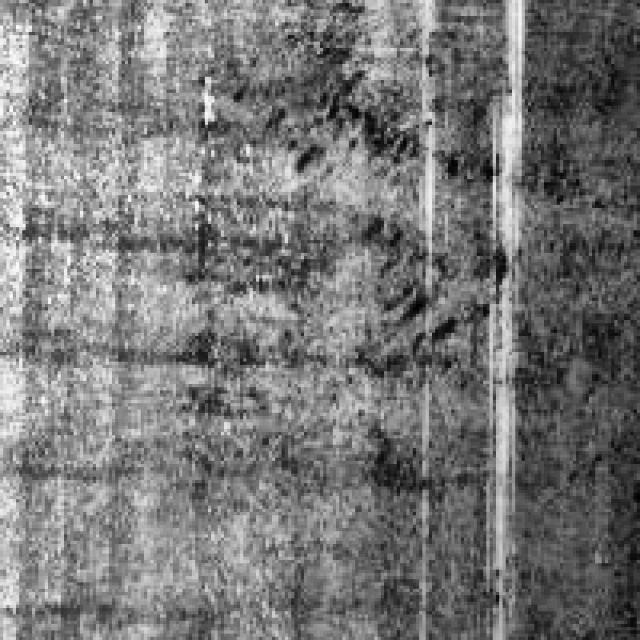Inclusion: (476, 0, 521, 614)
